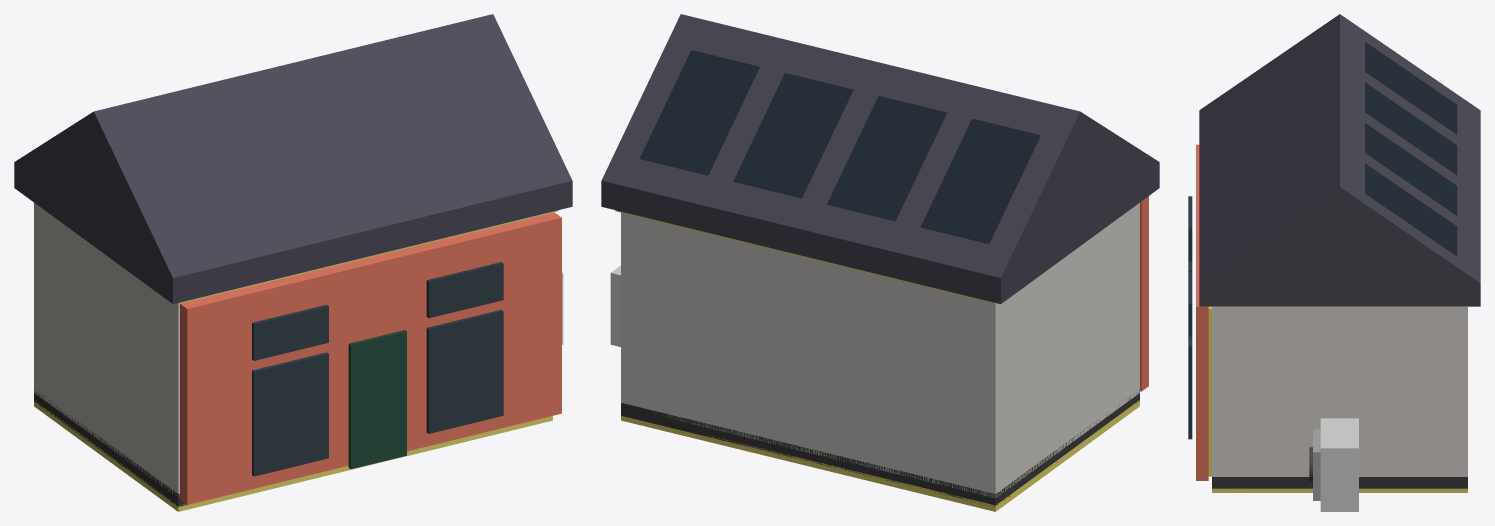
Rendered from gijs-standaardwoning.glb.
3 views of the same model, side by side, from view 1: azimuth 30°, elevation 25°; view 2: azimuth 150°, elevation 25°; view 3: azimuth 270°, elevation 25° (orthographic). The views are drawn at different scales.
Visible parts, largest first — view 1: Dak, Buitengevel_voor, Woning, Raam_voor_02, Raam_voor_01, Voordeur, Raam_voor_04, Raam_voor_03, Vloerisolatie, Vloer, Dakisolaties; view 2: Woning, Dak, Zonnepaneel_02, Zonnepaneel_04, Zonnepaneel_01, Zonnepaneel_03, Vloer, Vloerisolatie, Buitengevel_voor, Warmtepomp_buitenuit, Dakisolaties; view 3: Dak, Woning, Warmtepomp_buitenuit, Buitengevel_voor, Zonnepaneel_01, Zonnepaneel_03, Zonnepaneel_02, Zonnepaneel_04, Vloer, Vloerisolatie, Spouwisolatie_voor, Warmtepomp_front (+1 smaller).
Boxes of the visible parts, left/top/right/bottom form: Dak: left=14, top=14, right=572, bottom=303; Buitengevel_voor: left=180, top=212, right=561, bottom=504; Woning: left=34, top=203, right=552, bottom=497; Raam_voor_02: left=426, top=309, right=503, bottom=433; Raam_voor_01: left=252, top=352, right=328, bottom=476; Voordeur: left=348, top=330, right=406, bottom=469; Raam_voor_04: left=426, top=262, right=503, bottom=318; Raam_voor_03: left=252, top=304, right=328, bottom=360; Vloerisolatie: left=34, top=400, right=552, bottom=511; Vloer: left=34, top=390, right=186, bottom=506; Dakisolaties: left=178, top=210, right=558, bottom=303; Woning: left=621, top=203, right=1139, bottom=497; Dak: left=601, top=14, right=1159, bottom=303; Zonnepaneel_02: left=827, top=95, right=947, bottom=221; Zonnepaneel_04: left=639, top=50, right=759, bottom=175; Zonnepaneel_01: left=920, top=118, right=1040, bottom=243; Zonnepaneel_03: left=733, top=73, right=853, bottom=198; Vloer: left=621, top=389, right=1139, bottom=506; Vloerisolatie: left=621, top=400, right=1139, bottom=511; Buitengevel_voor: left=1140, top=196, right=1148, bottom=391; Warmtepomp_buitenuit: left=610, top=265, right=620, bottom=346; Dakisolaties: left=615, top=210, right=995, bottom=303; Dak: left=1199, top=14, right=1480, bottom=306; Woning: left=1212, top=306, right=1467, bottom=476; Warmtepomp_buitenuit: left=1320, top=418, right=1358, bottom=511; Buitengevel_voor: left=1196, top=144, right=1208, bottom=480; Zonnepaneel_01: left=1365, top=42, right=1457, bottom=134; Zonnepaneel_03: left=1365, top=123, right=1457, bottom=215; Zonnepaneel_02: left=1365, top=82, right=1457, bottom=174; Zonnepaneel_04: left=1365, top=164, right=1457, bottom=256; Vloer: left=1212, top=477, right=1467, bottom=488; Vloerisolatie: left=1212, top=488, right=1467, bottom=492; Spouwisolatie_voor: left=1208, top=306, right=1211, bottom=476; Warmtepomp_front: left=1313, top=429, right=1320, bottom=500.
Bounding box in the file's own units: 7.35 × 5.37 × 4.57.
